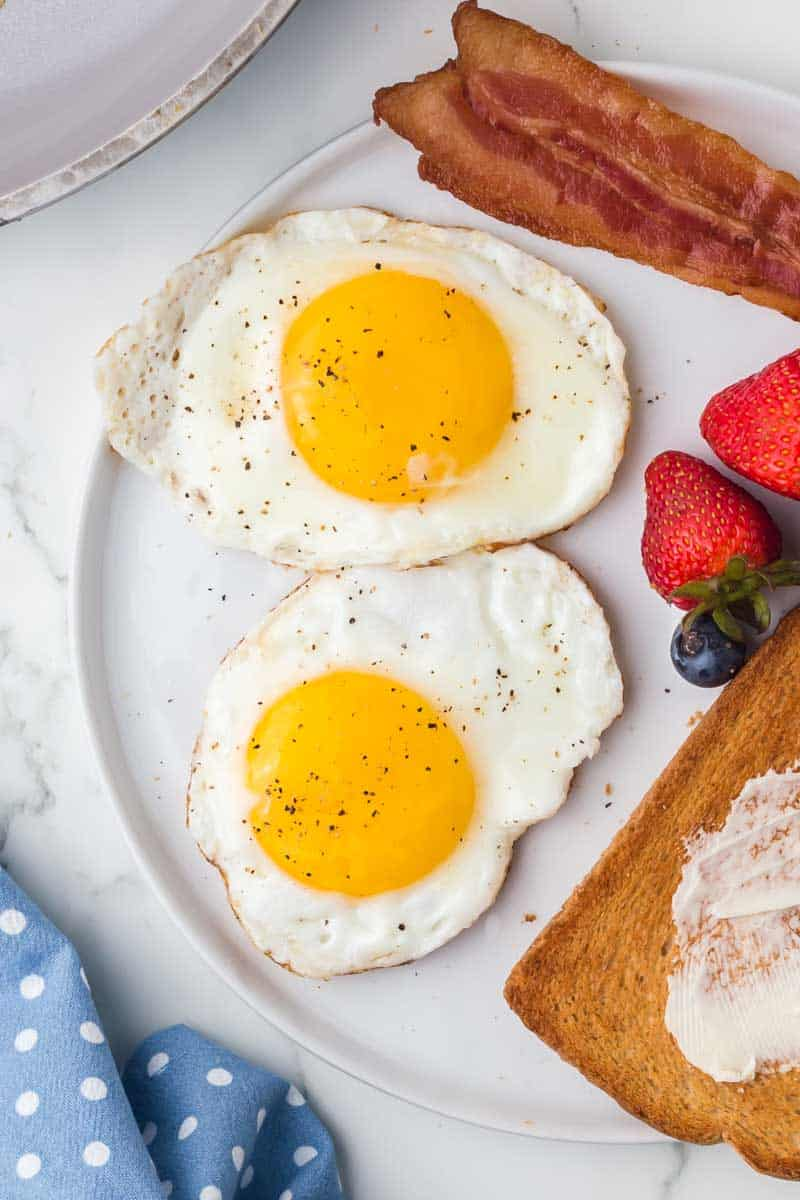Sunny Side Up: (73, 198, 637, 575), (186, 529, 630, 975)
